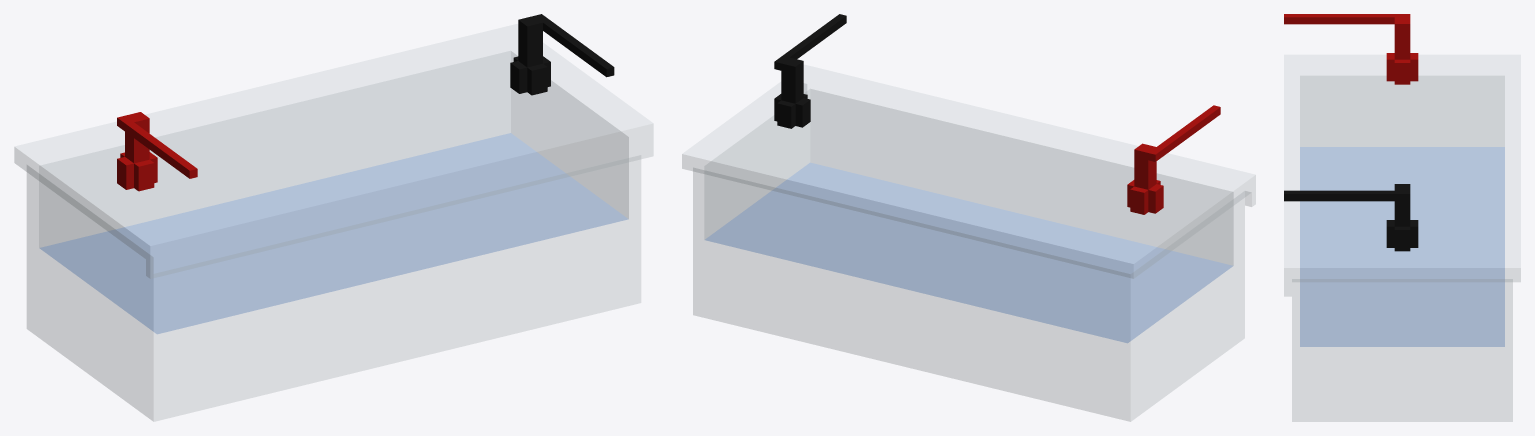
The model's file is electrophoresis_tray.glb.
The picture shows the model from 3 angles, left to right: view 1: azimuth 30°, elevation 25°; view 2: azimuth 150°, elevation 25°; view 3: azimuth 270°, elevation 25°; orthographic projection. The views are drawn at different scales.
Visible parts, largest first — view 1: electrophoresis_tray:compound; view 2: electrophoresis_tray:compound; view 3: electrophoresis_tray:compound.
Part boxes in pixels (left/top/right/bottom): electrophoresis_tray:compound: left=14, top=14, right=653, bottom=421; electrophoresis_tray:compound: left=682, top=14, right=1255, bottom=421; electrophoresis_tray:compound: left=1284, top=14, right=1520, bottom=421.
Bounding box in the file's own units: 0.256 × 0.12 × 0.12.
